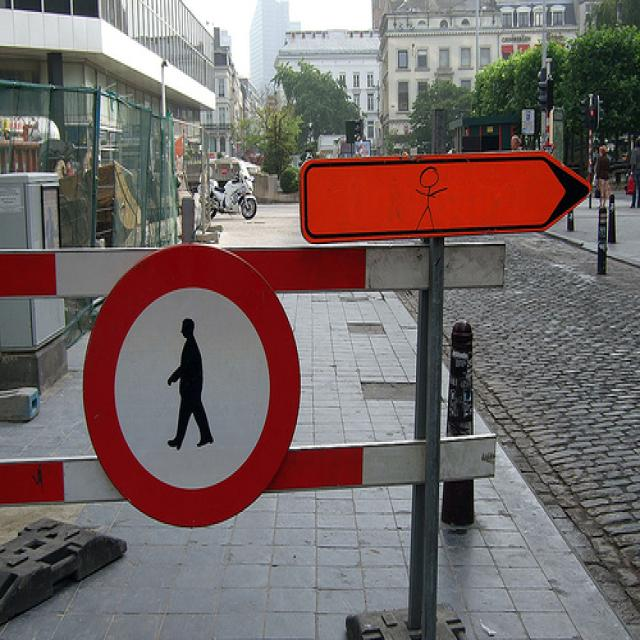motor: (211, 174, 258, 219)
